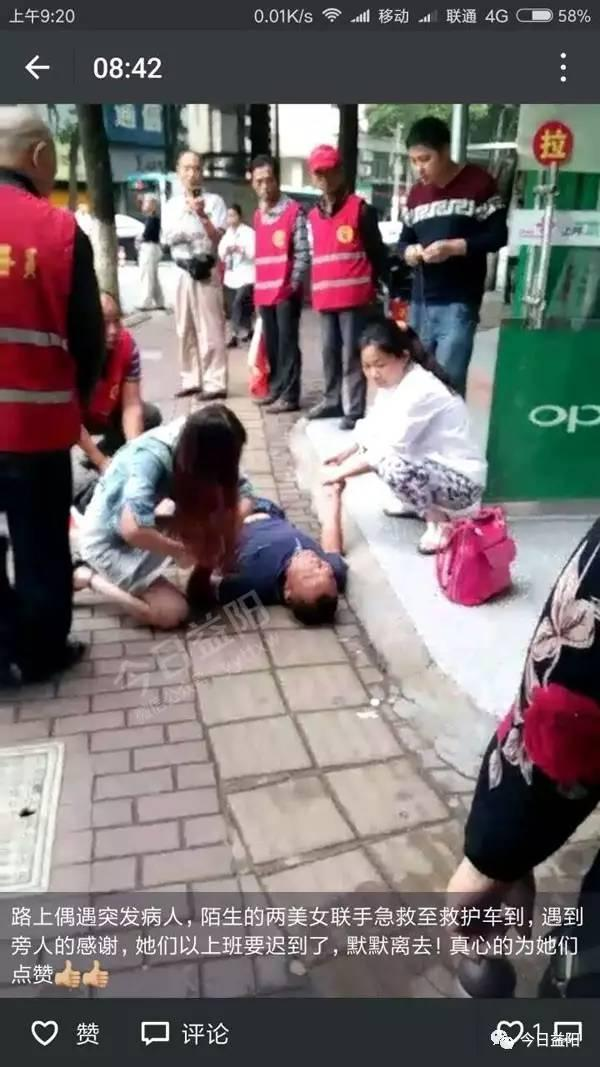Fall-Detected: (160, 445, 358, 642)
